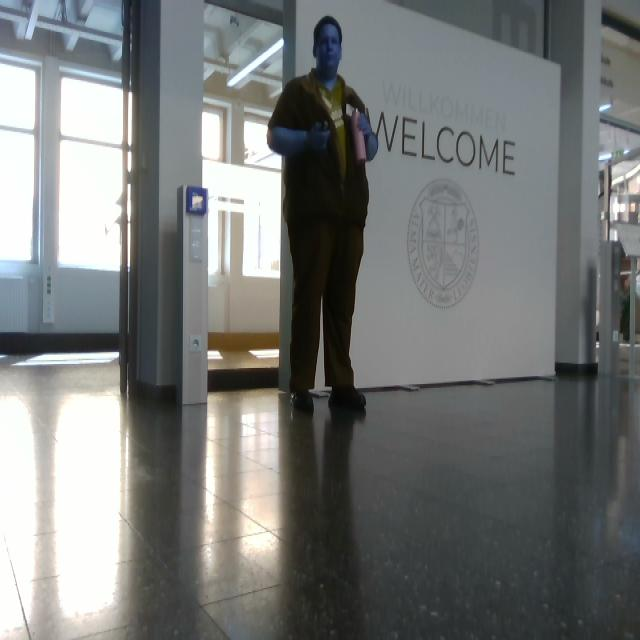light bulb: (228, 38, 283, 86), (600, 101, 610, 113)
person: (269, 17, 378, 412)
pillar: (130, 1, 207, 405)
tiled floor: (1, 360, 640, 640)
window: (59, 78, 122, 272), (1, 62, 39, 261)
